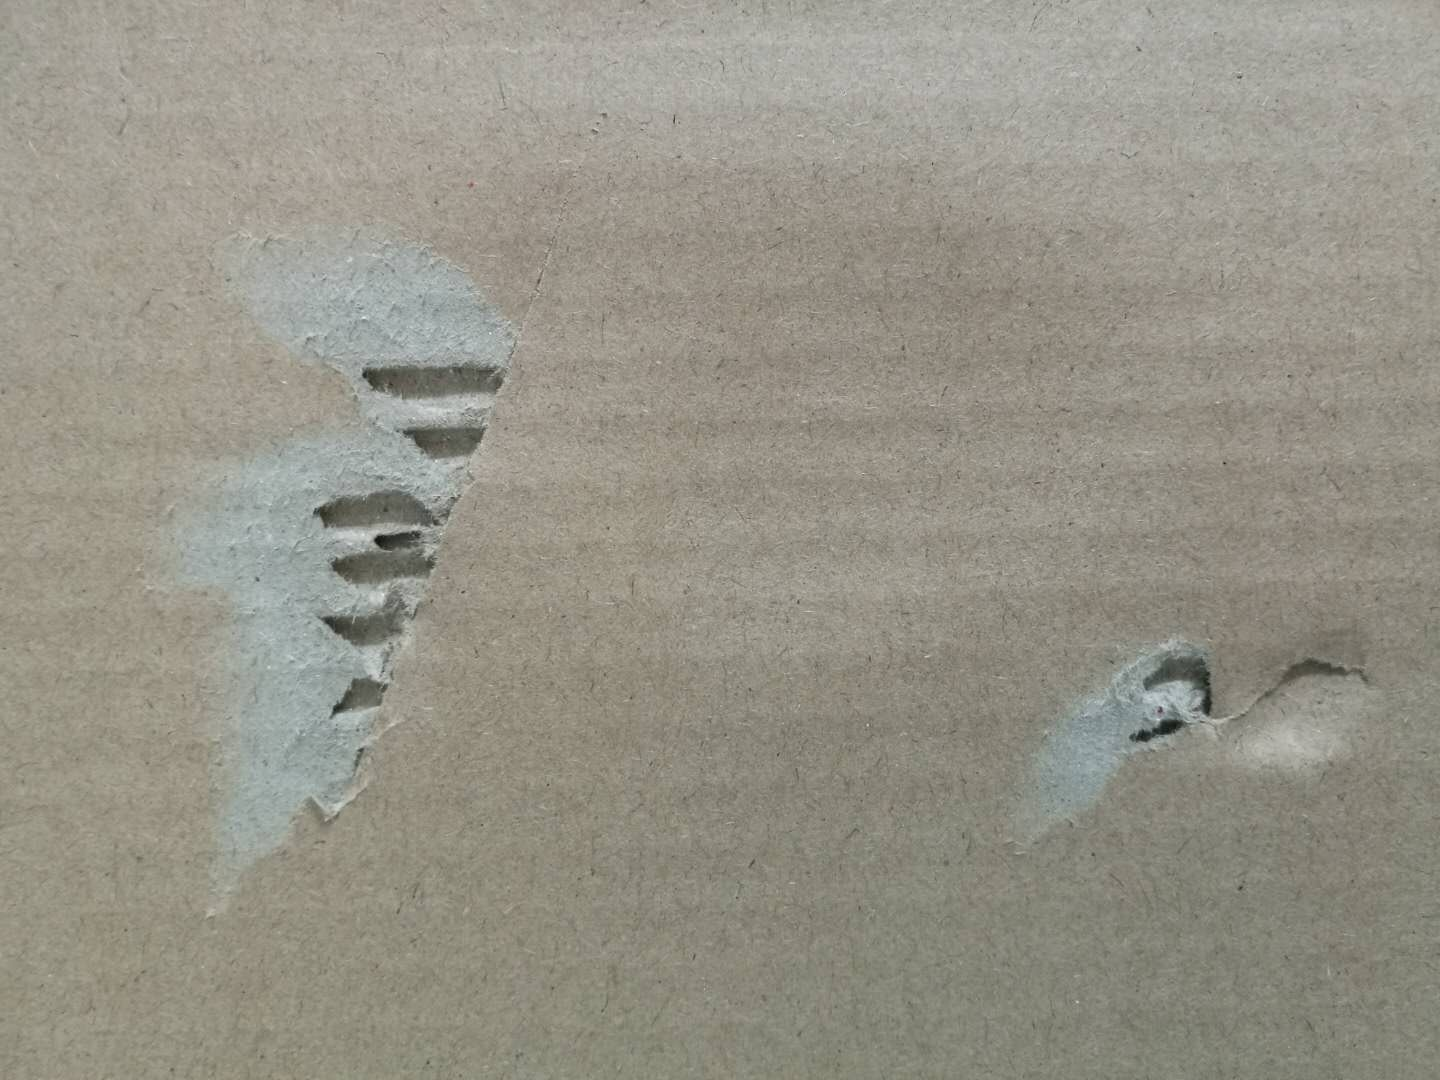defect: (121, 187, 549, 943), (996, 598, 1409, 870)
